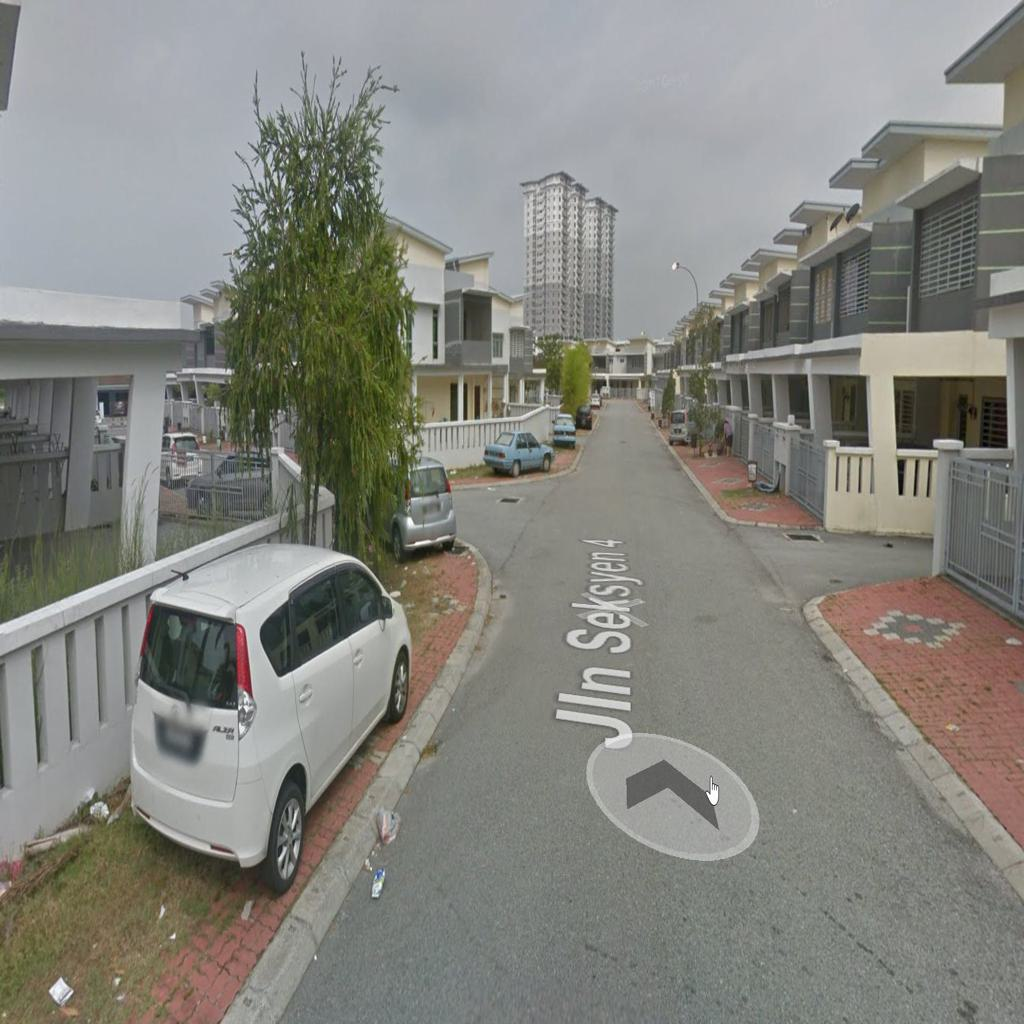Junction: (711, 493, 936, 632)
